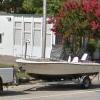Boat: (10, 49, 99, 78)
